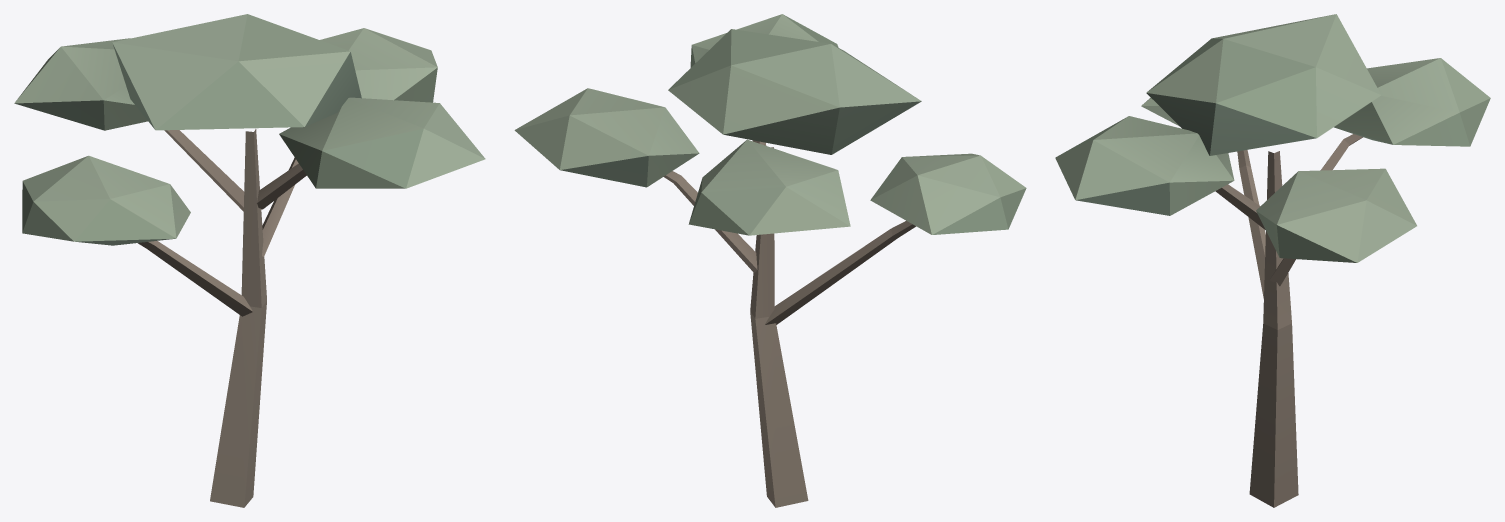
File: pine.lod2.glb
The picture shows the model from 3 angles, left to right: view 1: azimuth 30°, elevation 25°; view 2: azimuth 150°, elevation 25°; view 3: azimuth 270°, elevation 25°; orthographic projection. The views are drawn at different scales.
Size of the model in its own units: 7.18 by 6.88 by 6.04.
